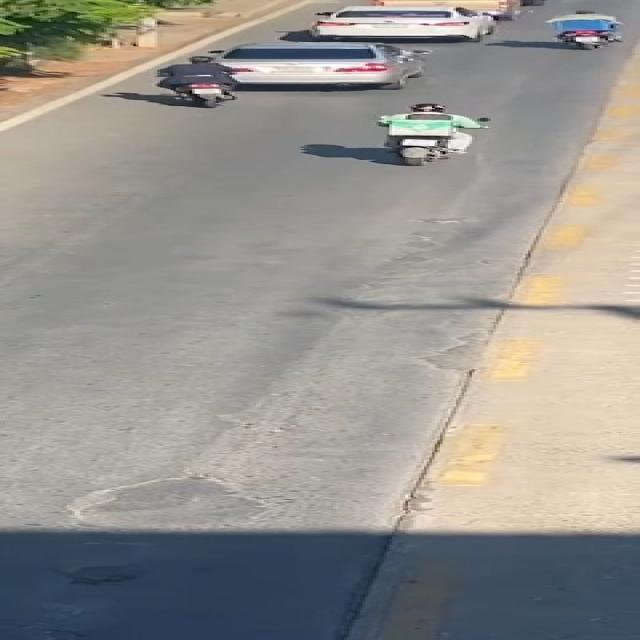car: (183, 39, 453, 91), (294, 3, 511, 45)
